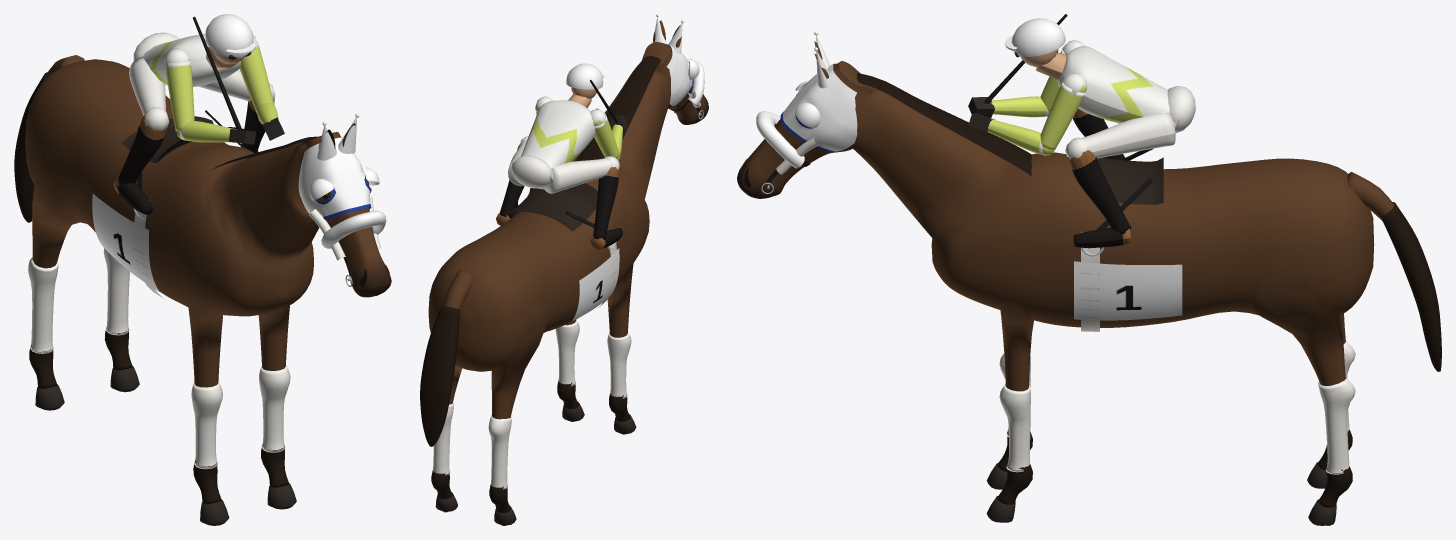
File: horse.glb
The picture shows the model from 3 angles, left to right: view 1: azimuth 30°, elevation 25°; view 2: azimuth 150°, elevation 25°; view 3: azimuth 270°, elevation 25°; orthographic projection. The views are drawn at different scales.
Visible parts, largest first — view 1: body, rider, neck, head, LH_hip, LF_hip, LH_knee, LF_knee, RF_knee, RH_knee, RF_hip, tailFlow (+5 smaller); view 2: body, rider, neck, tailFlow, head, LH_hip, LH_knee, LF_hip, LF_knee, RF_knee, RH_knee, tail (+4 smaller); view 3: body, rider, neck, head, RH_hip, tailFlow, RF_hip, RH_knee, RF_knee, RF_fetlock, RH_fetlock, tail.
Part boxes in pixels (x1,y1,x2,y2): body: (25,59,313,316); rider: (113,14,284,218); neck: (197,136,319,273); head: (298,132,391,297); LH_hip: (32,137,81,268); LF_hip: (187,243,222,386); LH_knee: (28,257,58,353); LF_knee: (191,381,222,469); RF_knee: (259,365,290,452); RH_knee: (103,248,129,335); RF_hip: (258,305,289,370); tailFlow: (14,72,47,222); body: (428,178,649,371); rider: (496,63,626,249); neck: (573,56,670,199); tailFlow: (420,305,459,446); head: (641,42,708,124); LH_hip: (491,295,545,419); LH_knee: (488,415,511,489); LF_hip: (607,221,639,337); LF_knee: (607,332,631,398); RF_knee: (555,319,579,386); RH_knee: (433,402,453,475); tail: (444,269,474,309); body: (931,152,1374,331); rider: (968,14,1195,256); neck: (853,73,1031,242); head: (737,61,863,198); RH_hip: (1252,248,1345,385); tailFlow: (1382,202,1441,371); RF_hip: (999,249,1034,391); RH_knee: (1318,378,1355,474); RF_knee: (999,383,1030,472); RF_fetlock: (986,464,1032,522); RH_fetlock: (1308,466,1352,525); tail: (1347,172,1393,220).
Bounding box in the file's own units: 0.6839 × 2.28 × 2.99.
30 materials, 5 textured.
